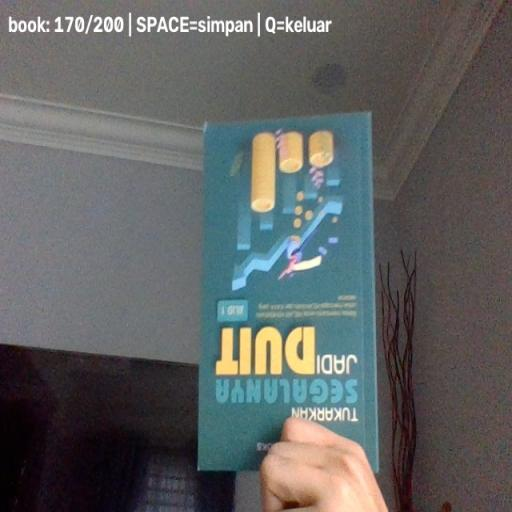Book: (198, 112, 380, 476)
